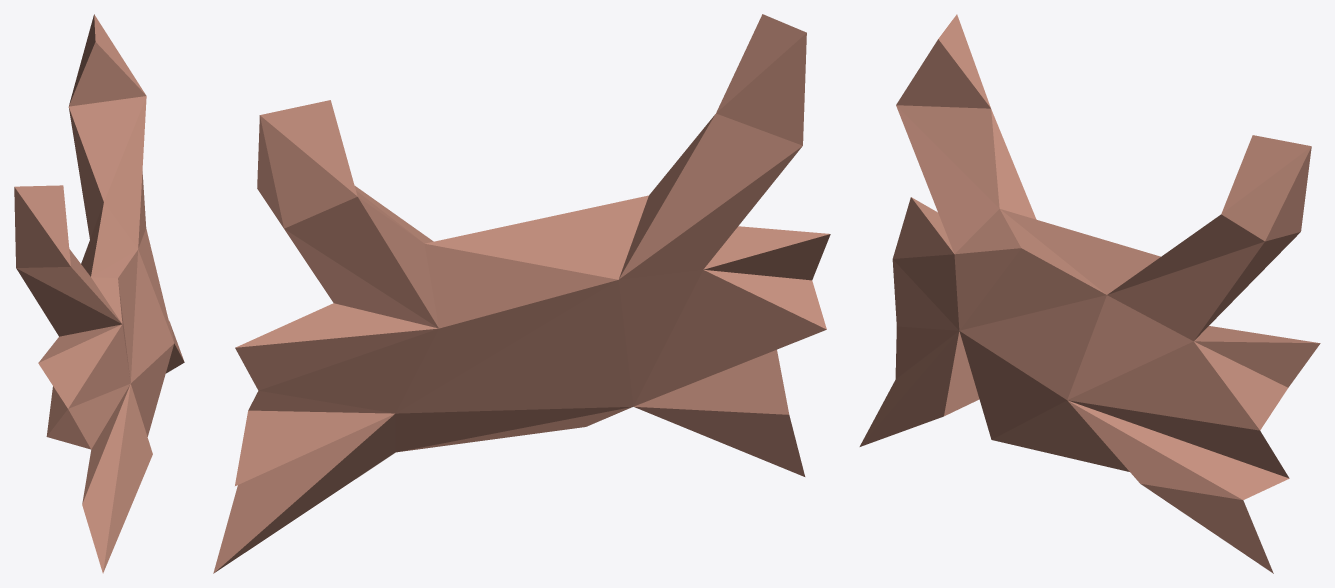
The picture shows the model from 3 angles, left to right: view 1: azimuth 30°, elevation 25°; view 2: azimuth 150°, elevation 25°; view 3: azimuth 270°, elevation 25°; orthographic projection. The views are drawn at different scales.
Visible parts, largest first — view 1: part0; view 2: part0; view 3: part0.
Boxes of the visible parts, left/top/right/bottom form: part0: left=14, top=14, right=184, bottom=573; part0: left=213, top=14, right=830, bottom=573; part0: left=859, top=14, right=1320, bottom=573.
Bounding box in the file's own units: 7.93 × 9.59 × 9.81.
